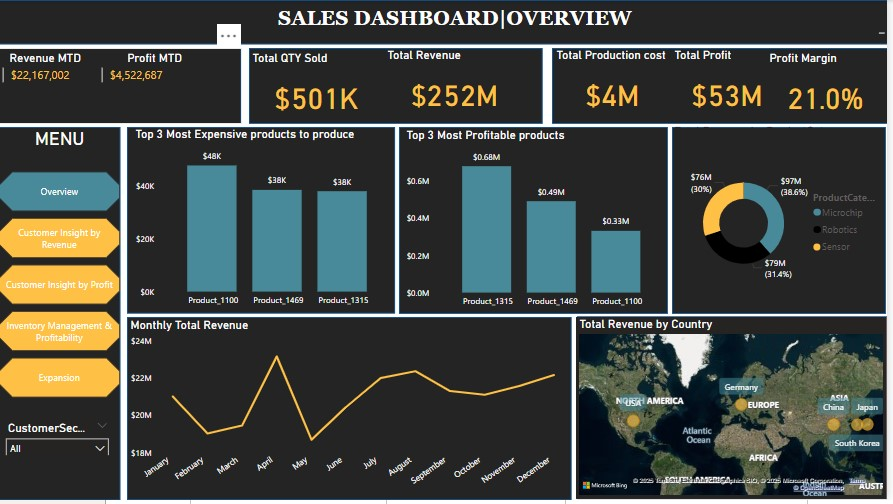

Layout of this report page (visuals, bound fields, positions):
{"tool":"powerbi","page":{"name":"Overview","canvas":[1280,720],"ordinal":0},"visuals":[{"type":"shape","box":[0,183.1,174.7,537.5],"z":0},{"type":"shape","box":[0,0,1280,63.8],"z":1000},{"type":"shape","box":[0,68.9,349.4,109.2],"z":2000},{"type":"shape","box":[796.3,69.1,483.8,109.4],"z":3000},{"type":"shape","box":[359.5,68.9,423.3,109.2],"z":4000},{"type":"cardVisual","title":"Total QTY Sold","fields":{"Data":["Calculations.Total QTY Sold"]},"box":[359.5,73.9,194.9,109.2],"z":5000},{"type":"cardVisual","title":"Total Revenue","fields":{"Data":["Calculations.Total Revenue"]},"box":[554.3,68.9,203.3,109.2],"z":6000},{"type":"cardVisual","title":"Total Profit","fields":{"Data":["Calculations.Total Profit"]},"box":[967.6,68.9,161.3,109.2],"z":7000},{"type":"cardVisual","title":"Total Production cost","fields":{"Data":["Calculations.Total Production Cost"]},"box":[797.8,69.1,171.4,109.4],"z":8000},{"type":"slicer","fields":{"Values":["CUSTOMER_DIM.CustomerSector"]},"box":[0,600.5,168.5,54.7],"z":9000},{"type":"shape","box":[184.8,183.1,386.4,268.8],"z":10000},{"type":"shape","box":[576.4,182.9,387.4,269.3],"z":11000},{"type":"shape","box":[969.1,182.9,308.2,269.3],"z":12000},{"type":"shape","box":[184.8,456.9,640,263.7],"z":13000},{"type":"shape","box":[832.2,455.5,446.8,263.7],"z":14000},{"type":"textbox","title":"TECHTRONIX SALES DASHBOARD|OVERVIEW","box":[33.1,8.6,1247,44.6],"z":15000},{"type":"multiRowCard","title":"Revenue MTD","fields":{"Values":["Calculations.Revenue MTD"]},"box":[0,73.9,132.7,77.3],"z":16000},{"type":"multiRowCard","title":"Profit MTD","fields":{"Values":["Calculations.Profit MTD"]},"box":[142.6,73.4,162.7,77.8],"z":17000},{"type":"columnChart","title":"Top 3 Most Expensive products to produce","fields":{"Y":["Calculations.Total Production Cost"],"Category":["PRODUCT_DIM.ProductName"]},"box":[191.5,183.1,384.7,267.1],"z":18000},{"type":"columnChart","title":"Top 3 Most Profitable  products","fields":{"Y":["Calculations.Total Profit"],"Category":["PRODUCT_DIM.ProductName"]},"box":[581.2,184.8,388,267.1],"z":19000},{"type":"donutChart","fields":{"Y":["Calculations.Total Revenue"],"Category":["PRODUCT_DIM.ProductCategory"]},"box":[967.6,178.1,307.4,267.1],"z":20000},{"type":"lineChart","title":"Monthly Total Revenue","fields":{"Category":["Calender_Dim.Month_Name"],"Y":["Calculations.Total Revenue"]},"box":[184.8,458.6,640,262],"z":21000},{"type":"map","fields":{"Category":["LOCATION_DIM.Country"],"Size":["Calculations.Total Revenue"]},"box":[831.5,456.9,446.8,262],"z":22000},{"type":"pageNavigator","title":"MENU","box":[0,223.4,174.7,351.1],"z":23000},{"type":"textbox","title":"MENU","box":[0,184.8,174.7,33.6],"z":24000},{"type":"cardVisual","title":"Profit Margin","fields":{"Data":["Calculations.Profit Margin"]},"box":[1104.5,73.4,172.8,109.4],"z":25000}]}

Visuals, with their boxes in screenshot pixels (x1, y1, x2, y2), scaled from the page's 1280x720 canvas onto the 893x504 screenshot:
shape: region(0, 128, 122, 503)
shape: region(0, 0, 892, 45)
shape: region(0, 48, 244, 125)
shape: region(556, 48, 892, 125)
shape: region(251, 48, 546, 125)
"Total QTY Sold" cardVisual: region(251, 52, 387, 128)
"Total Revenue" cardVisual: region(387, 48, 529, 125)
"Total Profit" cardVisual: region(675, 48, 788, 125)
"Total Production cost" cardVisual: region(557, 48, 676, 125)
slicer - CUSTOMER_DIM.CustomerSector: region(0, 420, 118, 459)
shape: region(129, 128, 399, 316)
shape: region(402, 128, 672, 317)
shape: region(676, 128, 891, 317)
shape: region(129, 320, 575, 503)
shape: region(581, 319, 892, 503)
"TECHTRONIX SALES DASHBOARD|OVERVIEW" textbox: region(23, 6, 892, 37)
"Revenue MTD" multiRowCard: region(0, 52, 93, 106)
"Profit MTD" multiRowCard: region(99, 51, 213, 106)
"Top 3 Most Expensive products to produce" columnChart: region(134, 128, 402, 315)
"Top 3 Most Profitable  products" columnChart: region(405, 129, 676, 316)
donutChart - Calculations.Total Revenue x PRODUCT_DIM.ProductCategory: region(675, 125, 890, 312)
"Monthly Total Revenue" lineChart: region(129, 321, 575, 503)
map - LOCATION_DIM.Country x Calculations.Total Revenue: region(580, 320, 892, 503)
"MENU" pageNavigator: region(0, 156, 122, 402)
"MENU" textbox: region(0, 129, 122, 153)
"Profit Margin" cardVisual: region(771, 51, 891, 128)
